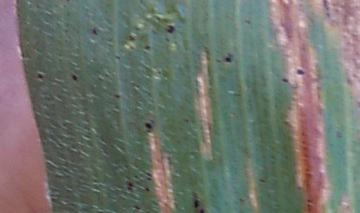tarspot: (144, 118, 156, 135), (164, 22, 176, 35), (223, 51, 234, 64), (294, 67, 304, 77), (35, 72, 45, 81), (127, 33, 136, 42), (70, 72, 78, 82), (91, 25, 98, 36), (143, 43, 152, 51), (257, 176, 266, 184), (193, 198, 199, 209), (112, 92, 121, 99), (336, 129, 343, 138), (281, 77, 289, 84), (133, 204, 141, 211), (113, 54, 120, 61), (127, 181, 134, 188), (198, 207, 204, 213), (146, 176, 152, 182), (126, 186, 133, 191), (145, 186, 150, 191), (145, 170, 149, 176), (133, 173, 136, 178)
